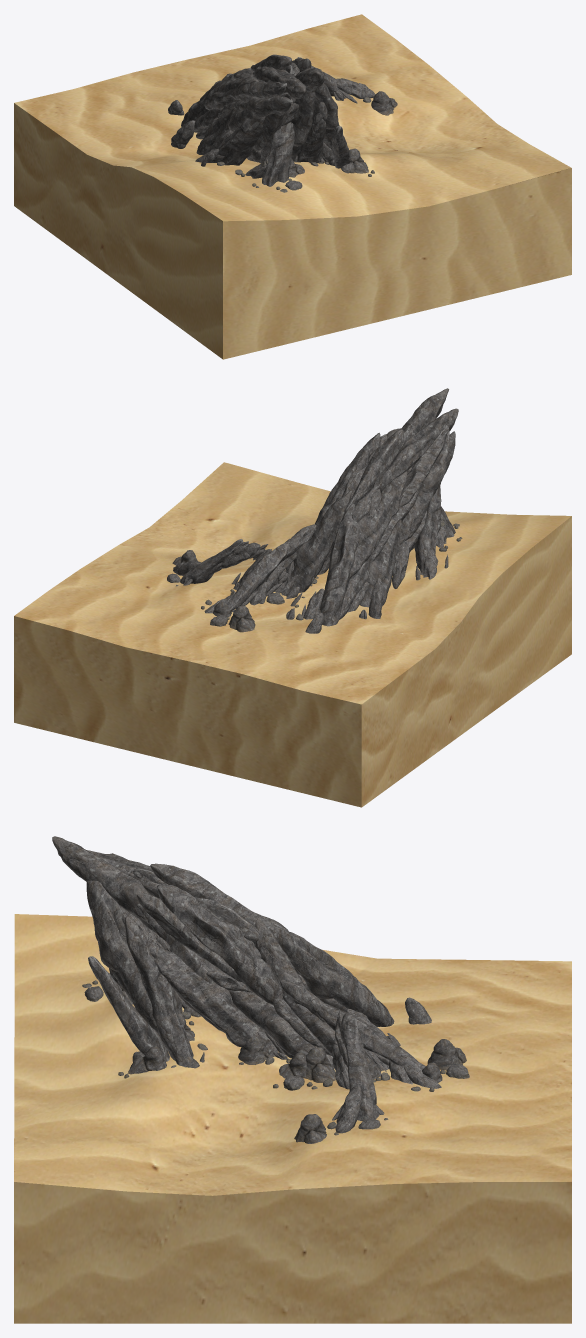
File: rocks_in_a_desert.glb
3 views of the same model, one above another, from view 1: azimuth 30°, elevation 25°; view 2: azimuth 150°, elevation 25°; view 3: azimuth 270°, elevation 25° (orthographic). The views are drawn at different scales.
Visible parts, largest first — view 1: polySurface369; view 2: polySurface369; view 3: polySurface369.
Part boxes in pixels (x1,y1,x2,y2): polySurface369: [14, 14, 571, 359]; polySurface369: [14, 388, 571, 807]; polySurface369: [14, 836, 571, 1323].
Size of the model in its own units: 44.51 by 30.54 by 46.46.
10 materials, 10 textured.
